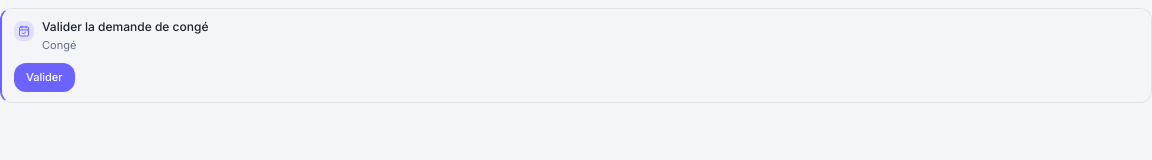
it: MarkdownText — action cards › offers a retry on a failed action
Click the button "Valider". click: [44, 77]
box: [14,63,74,92]
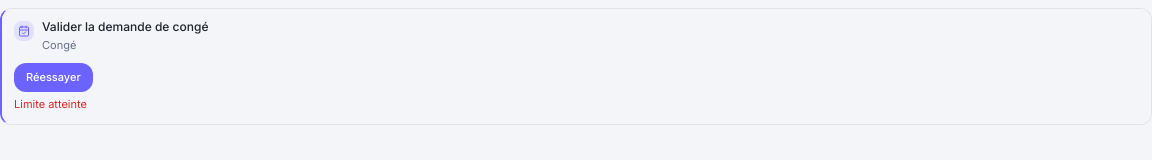
Check: the text "Limite atteinte" is shown, box [14,97,87,111]
Check: the button "Réessayer" is shown, box [14,63,93,92]
